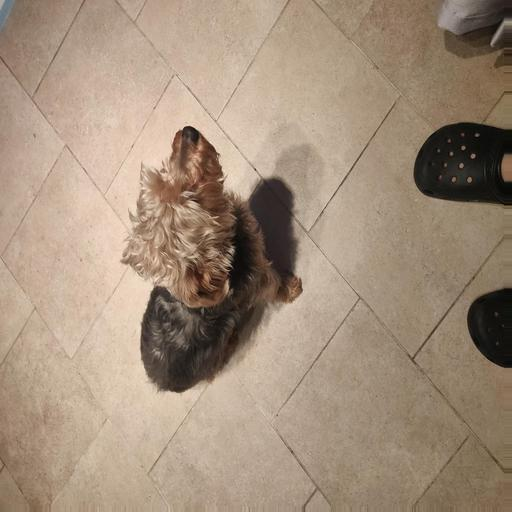dog: (72, 115, 355, 398)
